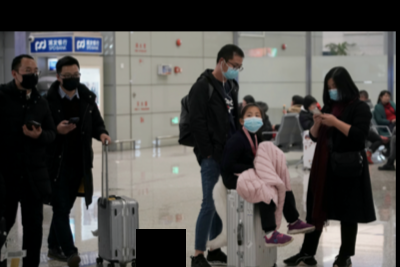with_mask: (16, 63, 39, 90), (58, 68, 80, 91), (223, 59, 243, 81), (243, 109, 263, 131), (328, 82, 343, 101)
without_mask: (383, 94, 391, 103)
